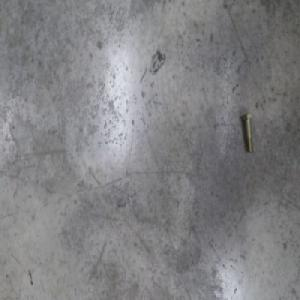Bolt: (240, 112, 253, 153)
